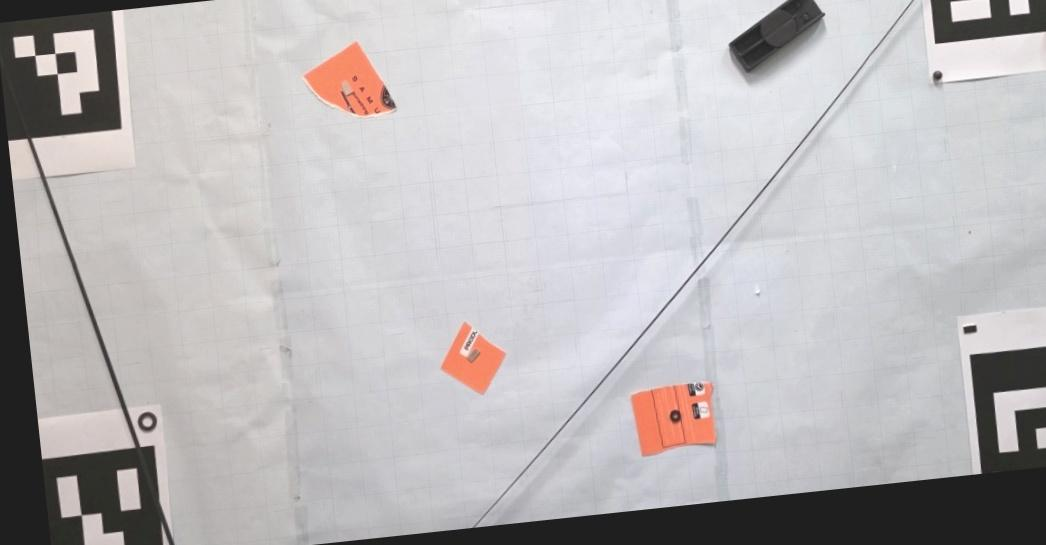obstacle: (302, 41, 398, 116), (728, 0, 825, 72), (631, 382, 716, 456), (441, 322, 507, 395)
